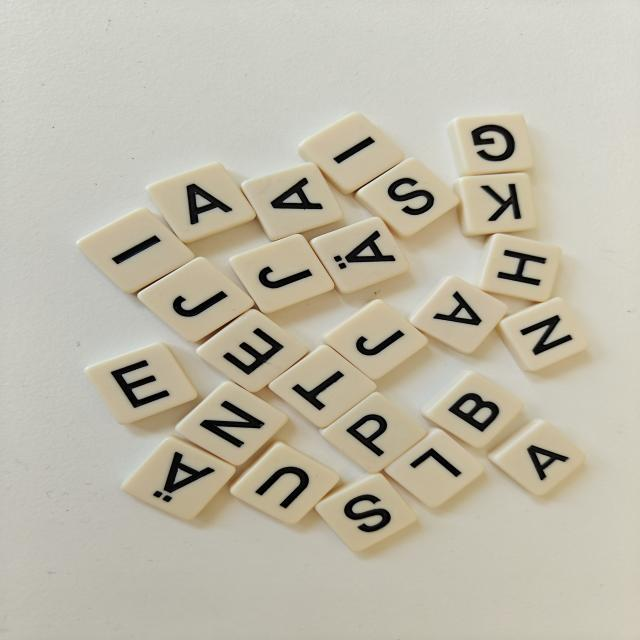a: (147, 163, 256, 243), (241, 163, 343, 241), (409, 276, 507, 353), (488, 419, 585, 496)
a_dot: (122, 435, 235, 519), (310, 218, 409, 293)
b: (421, 370, 523, 448)
e: (196, 309, 308, 392), (84, 342, 197, 424)
g: (448, 114, 533, 176)
h: (478, 234, 561, 302)
i: (77, 208, 195, 293), (299, 113, 404, 194)
j: (138, 257, 254, 342), (322, 300, 428, 380), (230, 235, 334, 313)
k: (453, 172, 537, 236)
l: (384, 429, 484, 507)
n: (176, 381, 288, 465), (496, 298, 588, 371)
p: (321, 392, 427, 473)
s: (354, 158, 459, 238), (315, 473, 417, 551)
t: (268, 345, 376, 428)
u: (230, 441, 340, 523)
